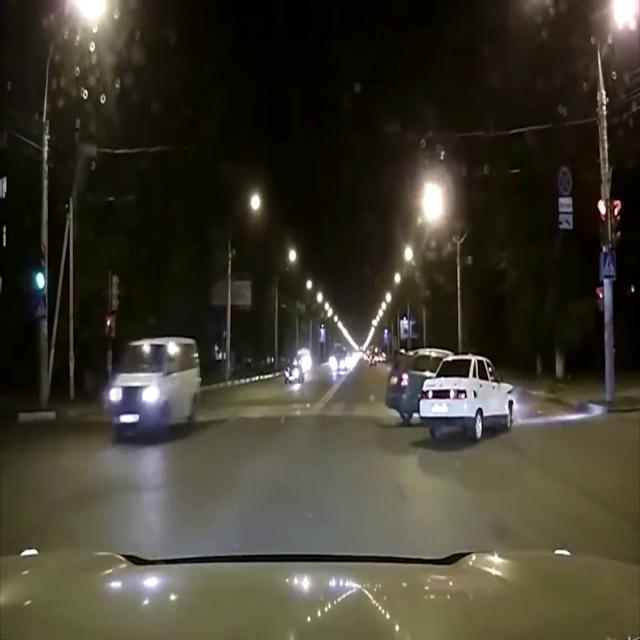multiple_accident: (352, 299, 538, 473)
normal: (72, 287, 212, 440)
